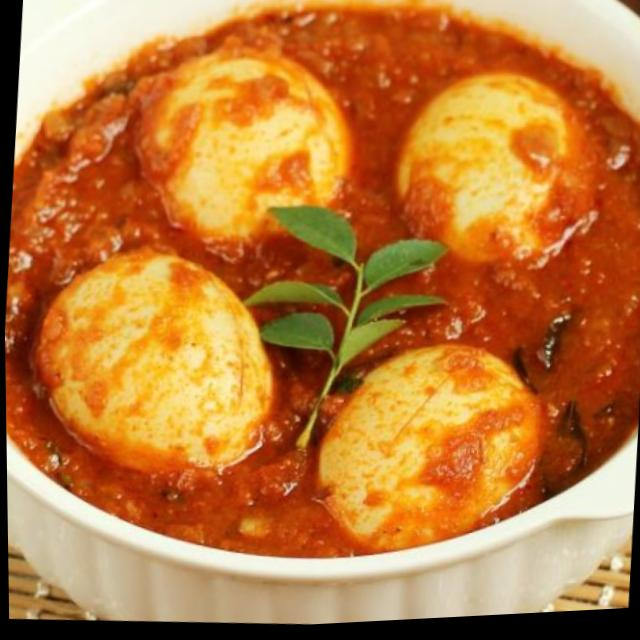EGG: (37, 250, 274, 470), (316, 343, 545, 553), (135, 53, 351, 239), (395, 73, 594, 261)
